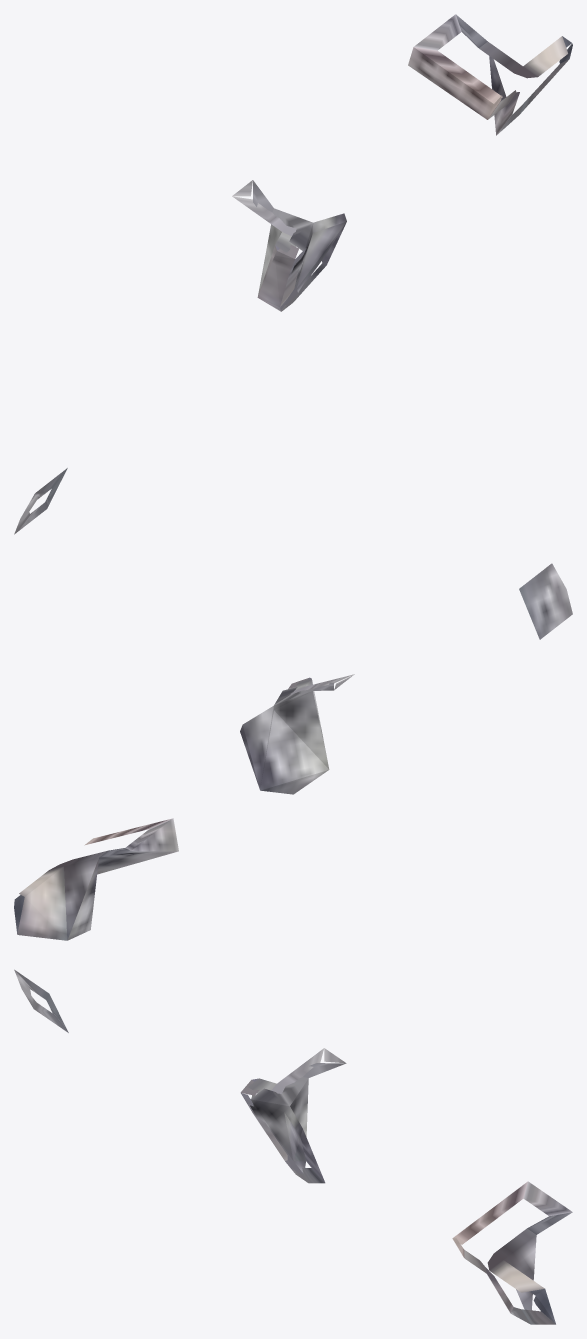
The picture shows the model from 3 angles, top to bottom: view 1: azimuth 30°, elevation 25°; view 2: azimuth 210°, elevation 25°; view 3: azimuth 270°, elevation 25°; orthographic projection. The views are drawn at different scales.
Size of the model in its own units: 93.33 by 15.34 by 56.41.
Materials: 1 (1 with a texture image).
